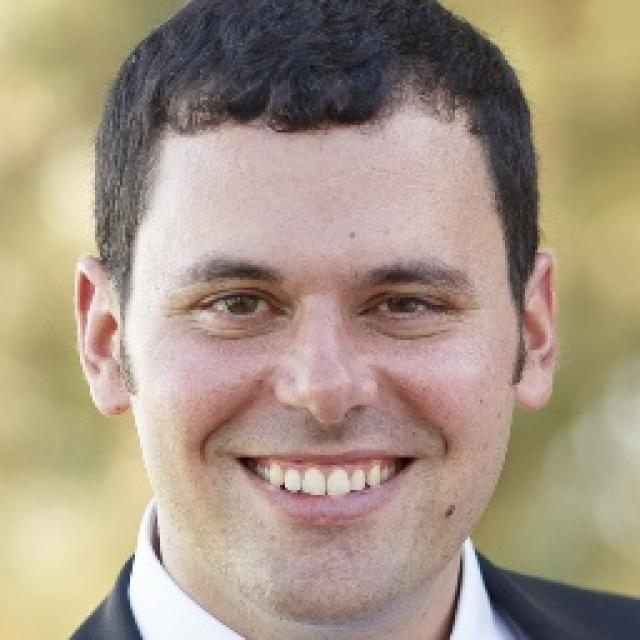earlobe: (89, 380, 133, 419), (515, 376, 557, 412)
eye: (184, 280, 285, 325), (361, 288, 453, 328)
nose: (264, 397, 389, 440)
wholeear: (72, 255, 131, 417), (516, 247, 560, 412)
